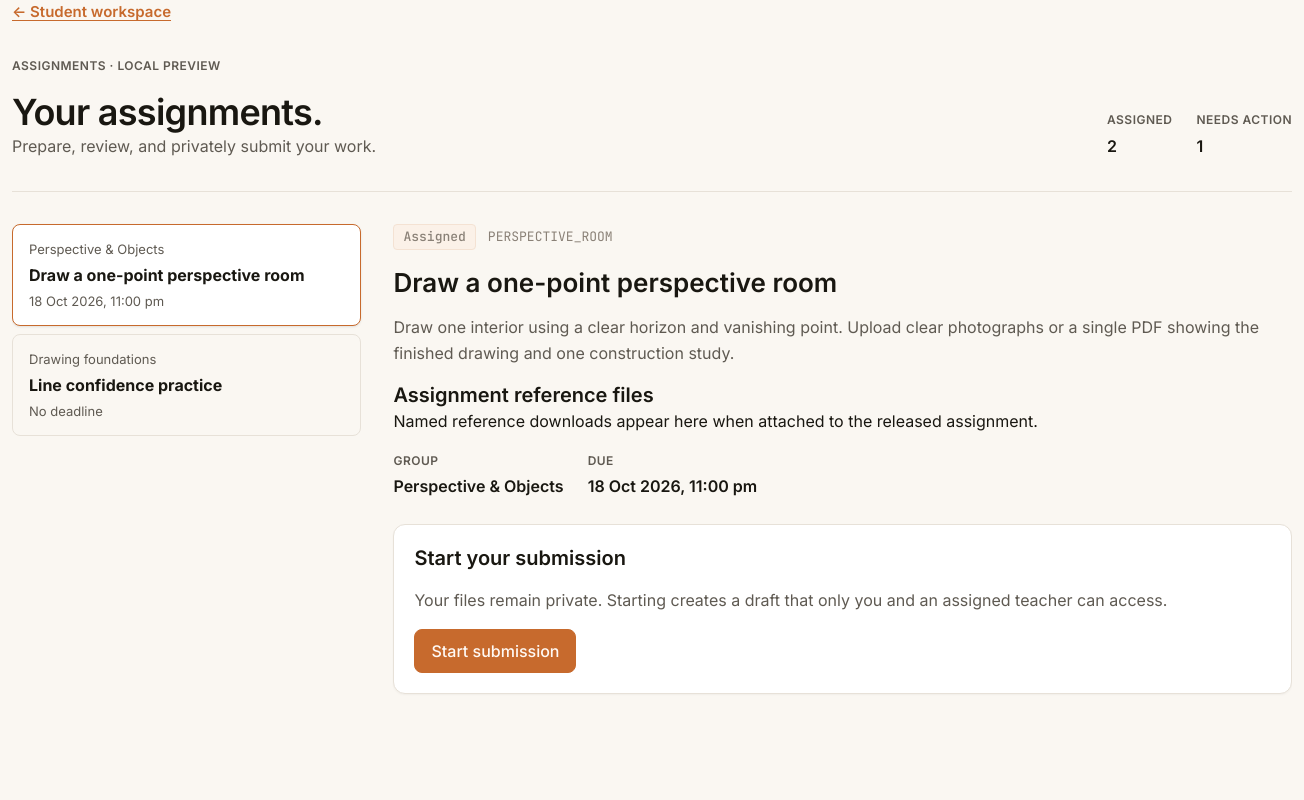
Test: StudentAssignmentsPage › shows immutable attempt history for submitted work
Click the button "Drawing foundations Line confidence practice No deadline".
click(187, 385)  # box [12,334,361,436]
(page scrolled)
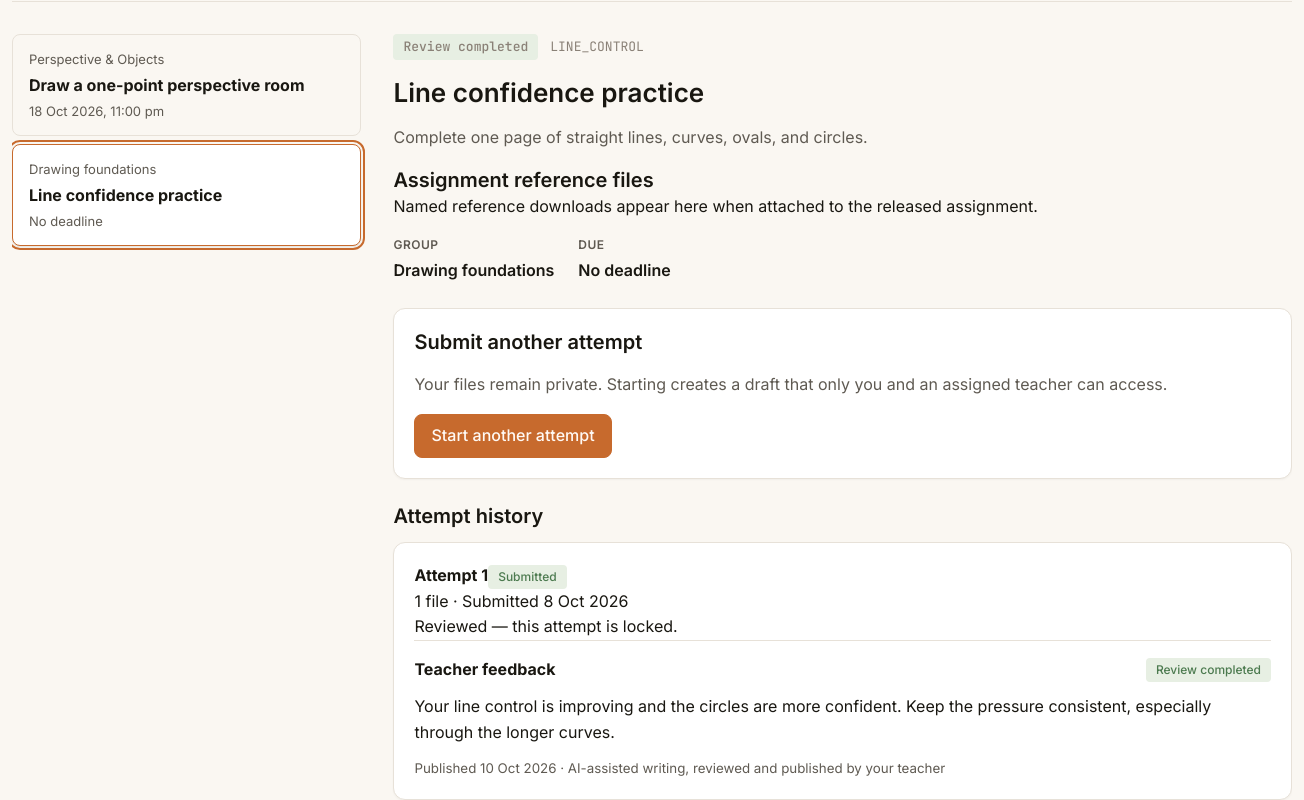
expect the heading "Attempt history" is shown: met, box [393,504,543,528]
expect the text "Attempt 1" is shown: met, box [414,565,488,585]
expect the text "1 file · Submitted 8 Oct 2026" is shown: met, box [414,591,628,611]
